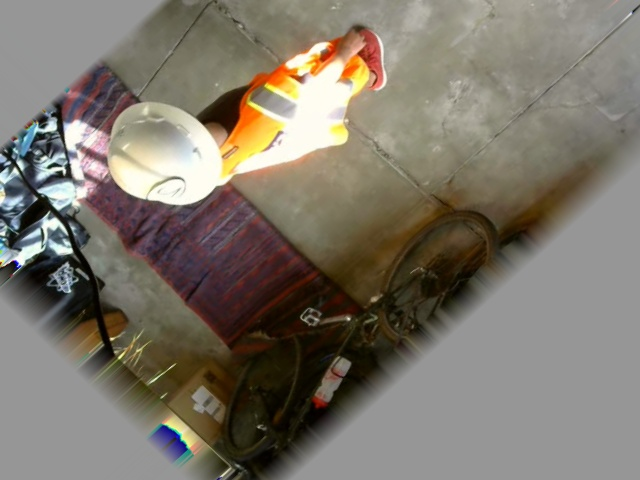two: (144, 170, 189, 212)
